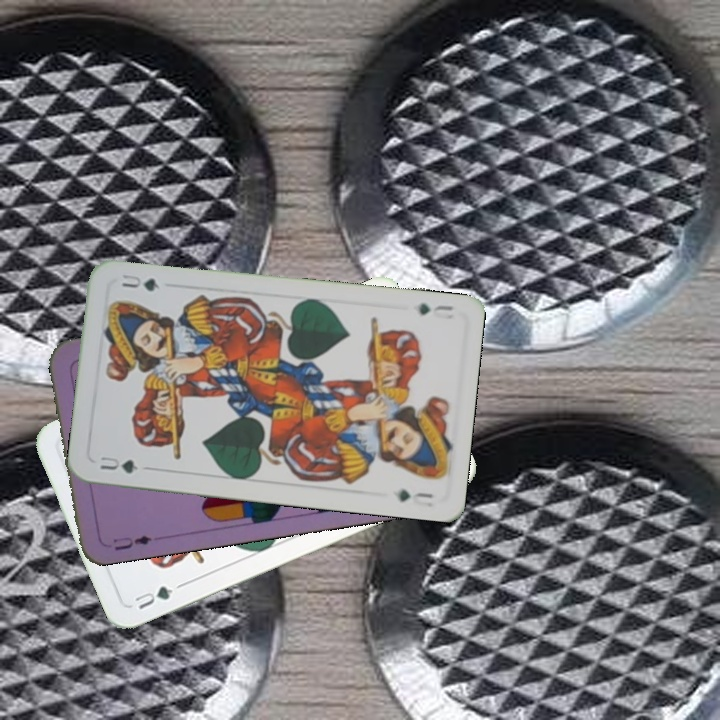EU: (109, 531, 155, 553)
GU: (130, 582, 176, 612), (96, 452, 141, 476), (414, 299, 456, 318)
